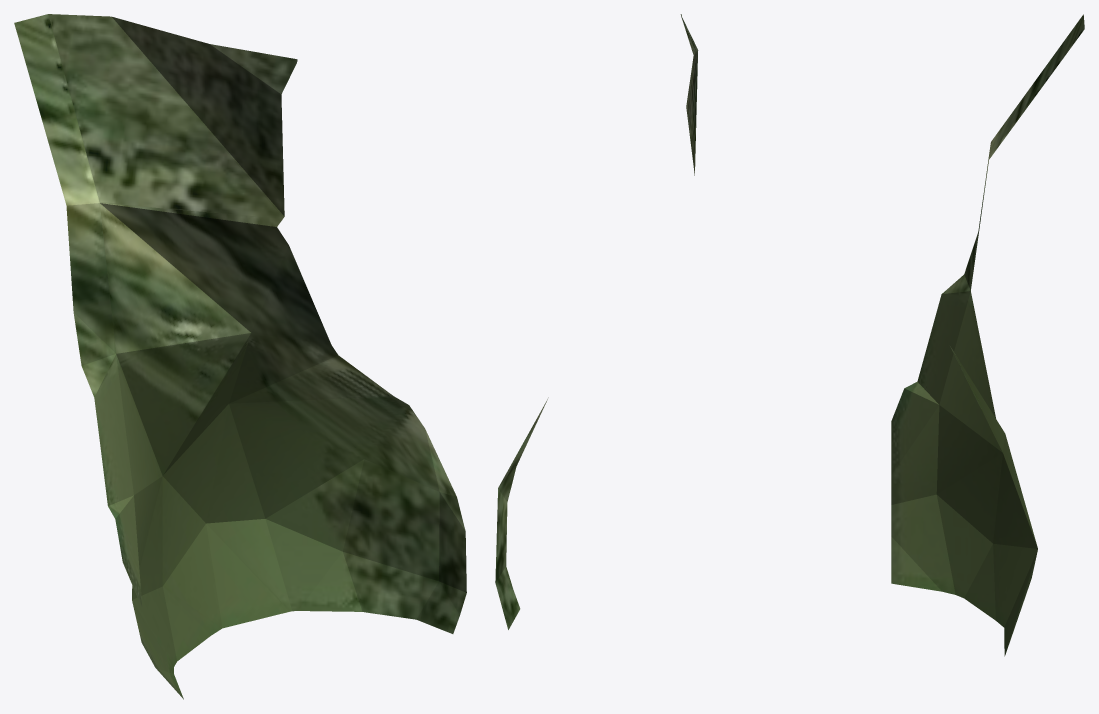
3 renders of one model, left to right at view 1: azimuth 30°, elevation 25°; view 2: azimuth 150°, elevation 25°; view 3: azimuth 270°, elevation 25°, orthographic. The views are drawn at different scales.
Size of the model in its own units: 3.47 by 5.9 by 1.91.
2 materials, 2 textured.
